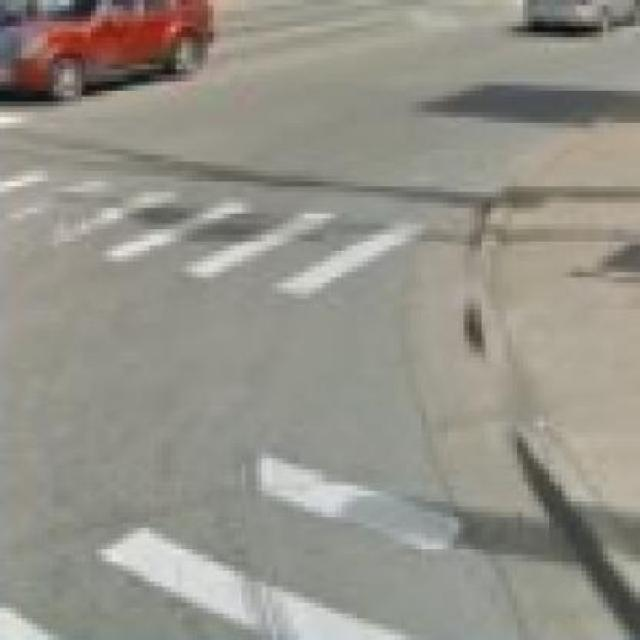crosswalk: (2, 454, 512, 640), (2, 165, 436, 309)
